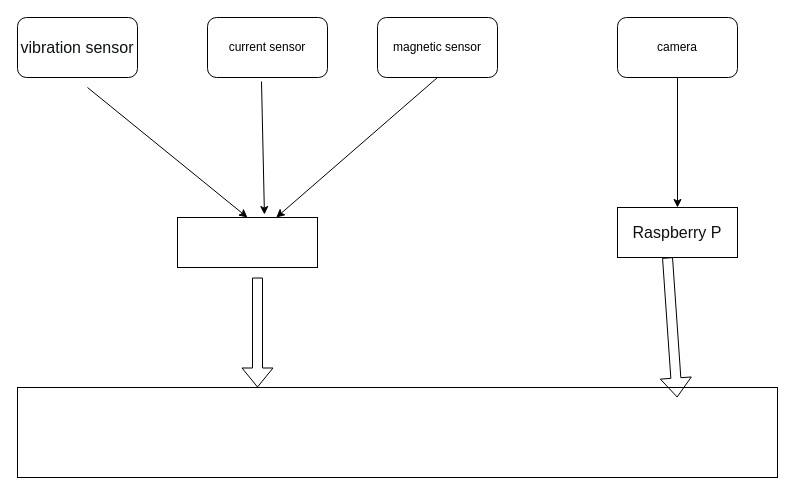
Image size: 795x495. Some labels were removed from this diagram. The shapes that lost their labels are listed below. From the top down, each one's centre as x and y in pixels, then its label:
At (247,242): "EPS8266".
At (397,432): "Broker".
